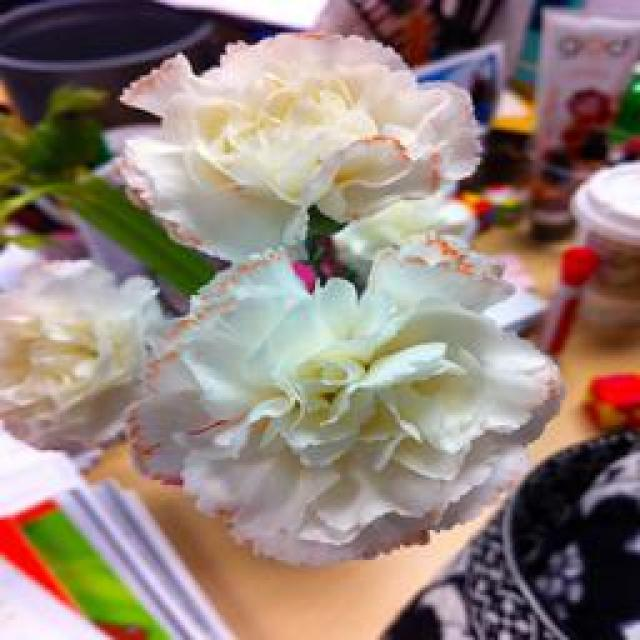carnation: (108, 231, 585, 565)
